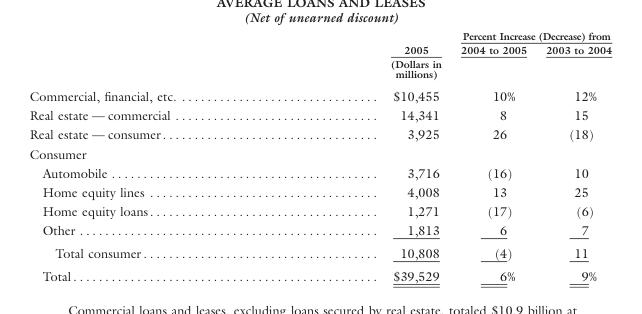table: (28, 28, 611, 283)
table column: (28, 28, 383, 283), (450, 28, 535, 283), (535, 28, 611, 283), (383, 28, 450, 283)
table column header: (28, 28, 611, 83)
table projected row header: (28, 143, 611, 162)
table row: (28, 42, 611, 83), (28, 241, 611, 264), (28, 83, 611, 105), (28, 220, 611, 241), (28, 200, 611, 220), (28, 105, 611, 124), (28, 124, 611, 143), (28, 143, 611, 162), (28, 162, 611, 181), (28, 181, 611, 200), (28, 264, 611, 283), (28, 28, 611, 42)
table spanning cell: (383, 28, 450, 83), (450, 28, 611, 42)
